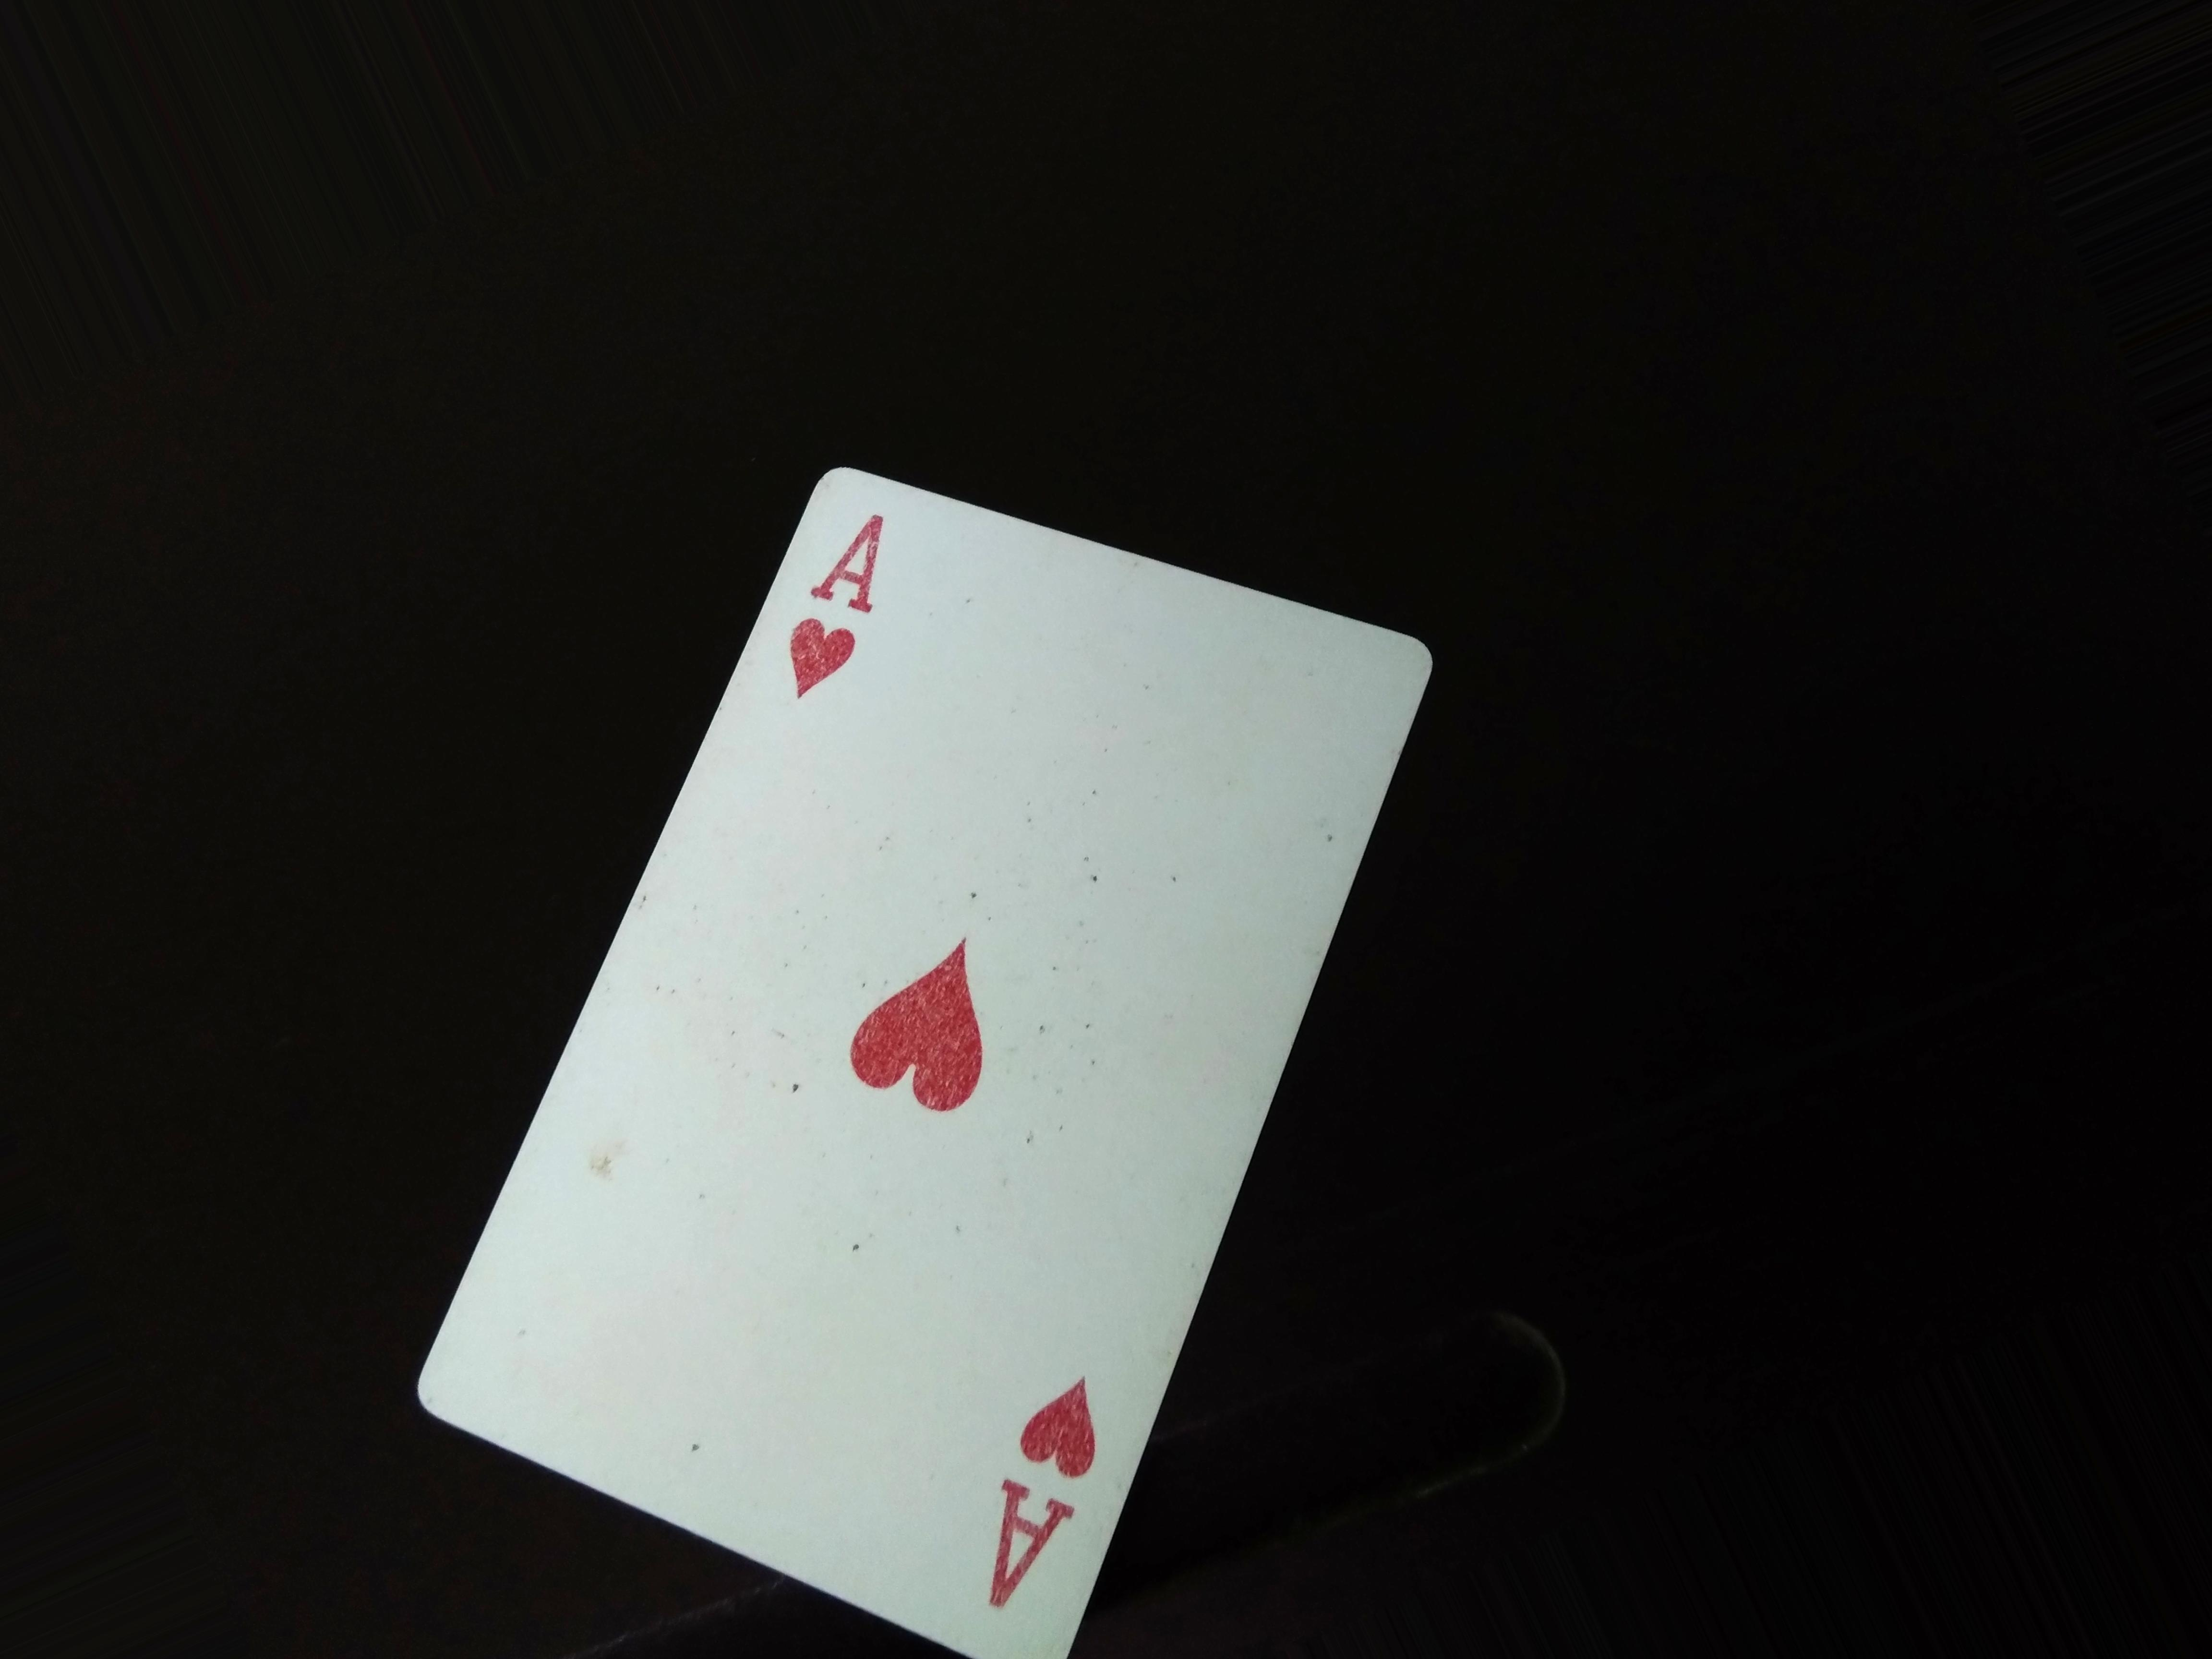AH: (766, 493, 897, 723)
